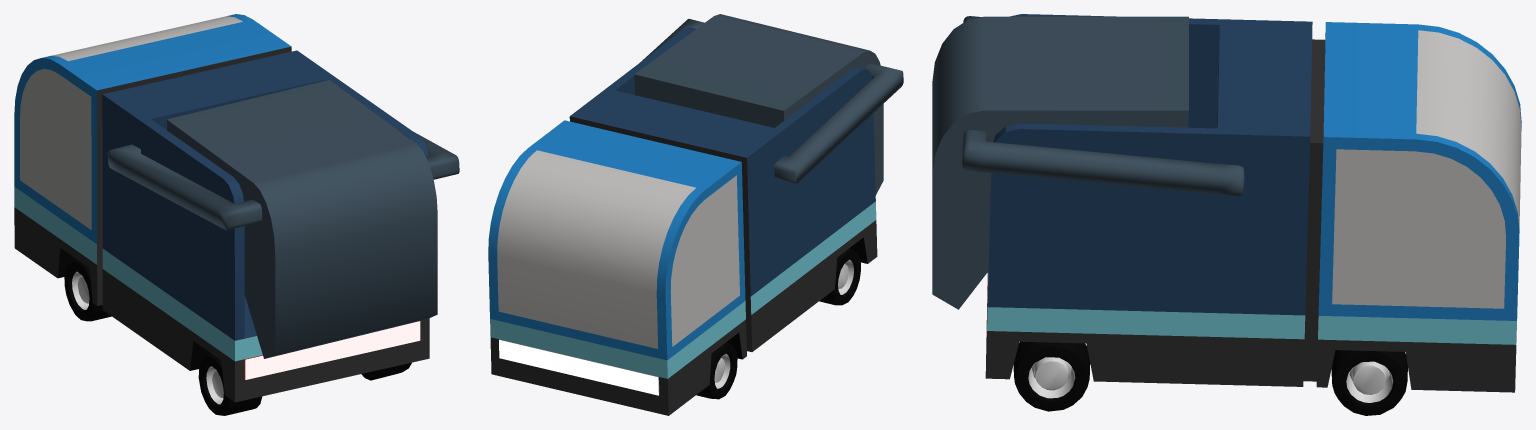
File: SM_GarbageTruck_Blue.glb
The picture shows the model from 3 angles, left to right: view 1: azimuth 30°, elevation 25°; view 2: azimuth 150°, elevation 25°; view 3: azimuth 270°, elevation 25°; orthographic projection. The views are drawn at different scales.
Visible parts, largest first — view 1: BodyBlue, Rear, Lights, Wheels.Rear, Wheels.Front; view 2: BodyBlue, Rear, Lights, Wheels.Front, Wheels.Rear; view 3: BodyBlue, Rear, Wheels.Rear, Wheels.Front.
Boxes of the visible parts, left/top/right/bottom form: BodyBlue: left=14, top=14, right=429, bottom=402; Rear: left=107, top=80, right=459, bottom=358; Lights: left=245, top=321, right=420, bottom=379; Wheels.Rear: left=198, top=353, right=411, bottom=415; Wheels.Front: left=64, top=259, right=111, bottom=321; BodyBlue: left=488, top=27, right=877, bottom=415; Rear: left=634, top=14, right=903, bottom=195; Lights: left=499, top=340, right=658, bottom=395; Wheels.Front: left=696, top=342, right=737, bottom=399; Wheels.Rear: left=819, top=248, right=860, bottom=305; BodyBlue: left=985, top=14, right=1521, bottom=392; Rear: left=932, top=16, right=1244, bottom=309; Wheels.Rear: left=1013, top=341, right=1090, bottom=411; Wheels.Front: left=1331, top=350, right=1407, bottom=415.
Size of the model in its own units: 2.41 by 2.51 by 4.45.
